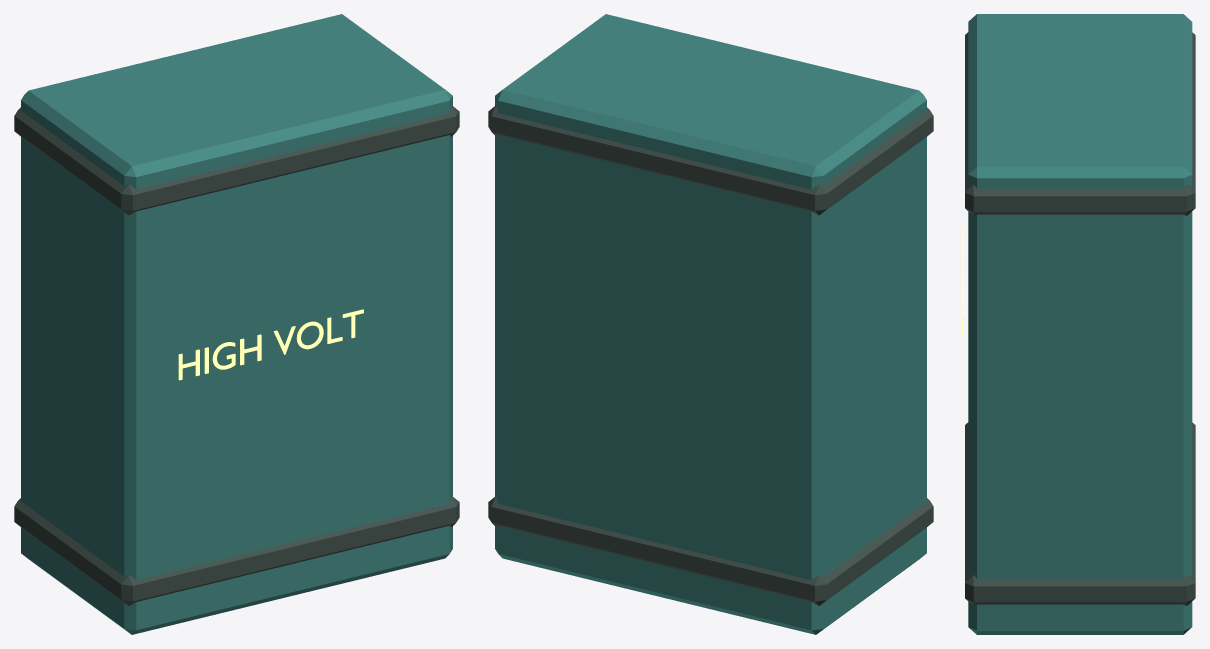
Rendered from electric_box.glb.
3 renders of one model, left to right at view 1: azimuth 30°, elevation 25°; view 2: azimuth 150°, elevation 25°; view 3: azimuth 270°, elevation 25°, orthographic.
Parts seen in each view (by area): view 1: electric_box.001; view 2: electric_box.001; view 3: electric_box.001.
Part boxes in pixels (x1=…): electric_box.001: x1=14, y1=14, x2=459, y2=634; electric_box.001: x1=488, y1=14, x2=933, y2=634; electric_box.001: x1=962, y1=14, x2=1195, y2=634.
Size of the model in its own units: 1.13 by 1.5 by 0.6767.
